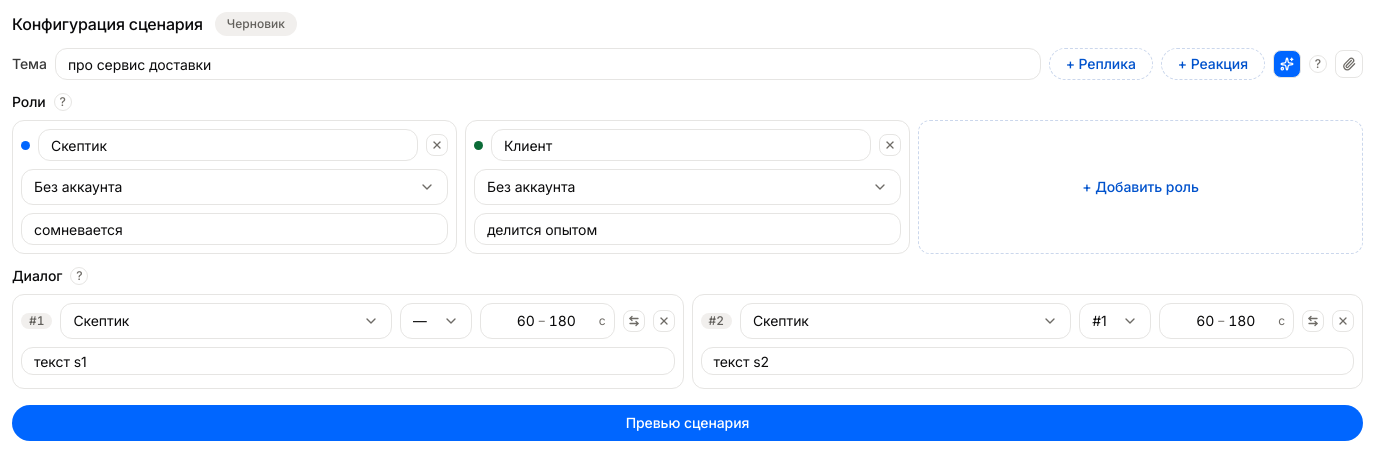
Scenario: a step can change kind, and its link travels under the right name
// Обе реплики предлагают одно и то же — берётся кнопка ВТОРОГО шага.
Click the button named "Сделать реакцией" in the row of "#2" at (1313, 321), box [1302,310,1324,332]
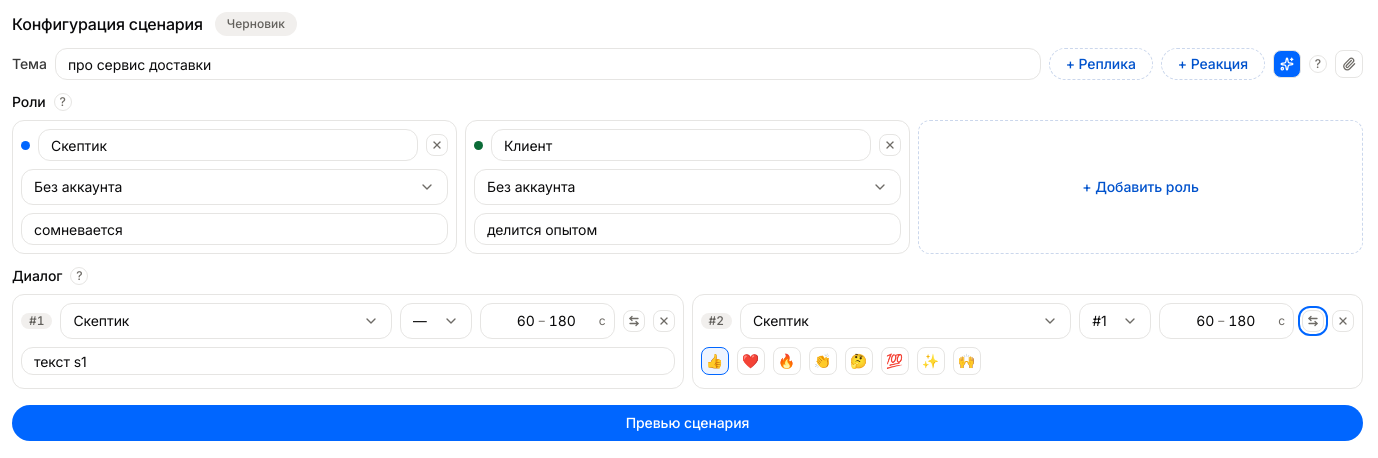
Expected: the dropdown named "Шаг 2 реагирует на" reads "#1", [1079,303,1151,339]
Expected: the element named "Реакция шага 2" is shown, [700,347,980,375]
Click the button named "Сделать репликой" at (1313, 321), box [1302,310,1324,332]
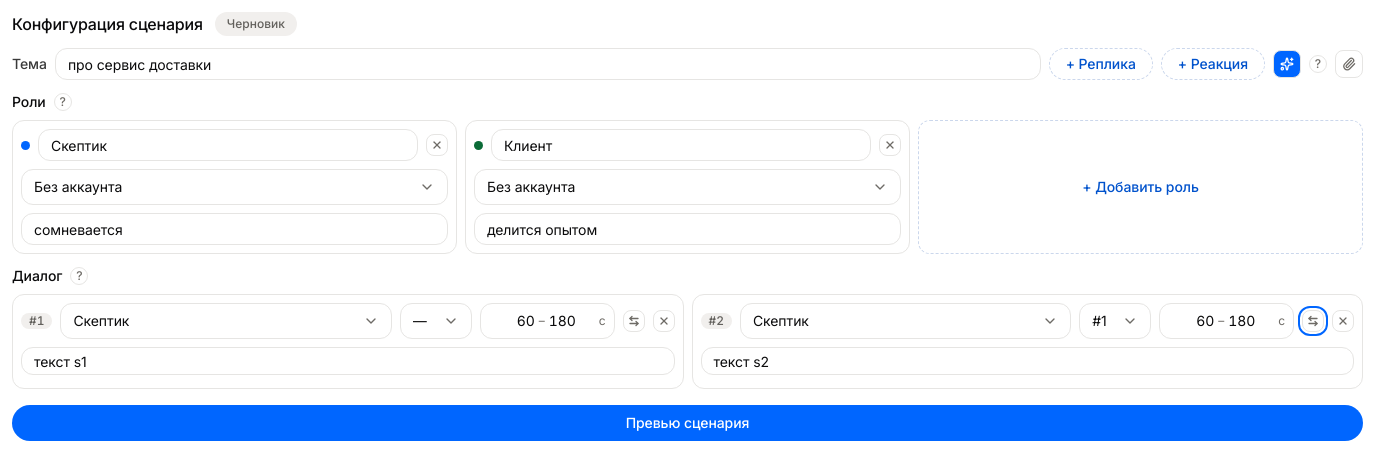
Expected: the dropdown named "Шаг 2 отвечает на" reads "#1", [1079,303,1151,339]
Expected: the text box named "Текст шага 2" is shown, [700,347,1354,375]
